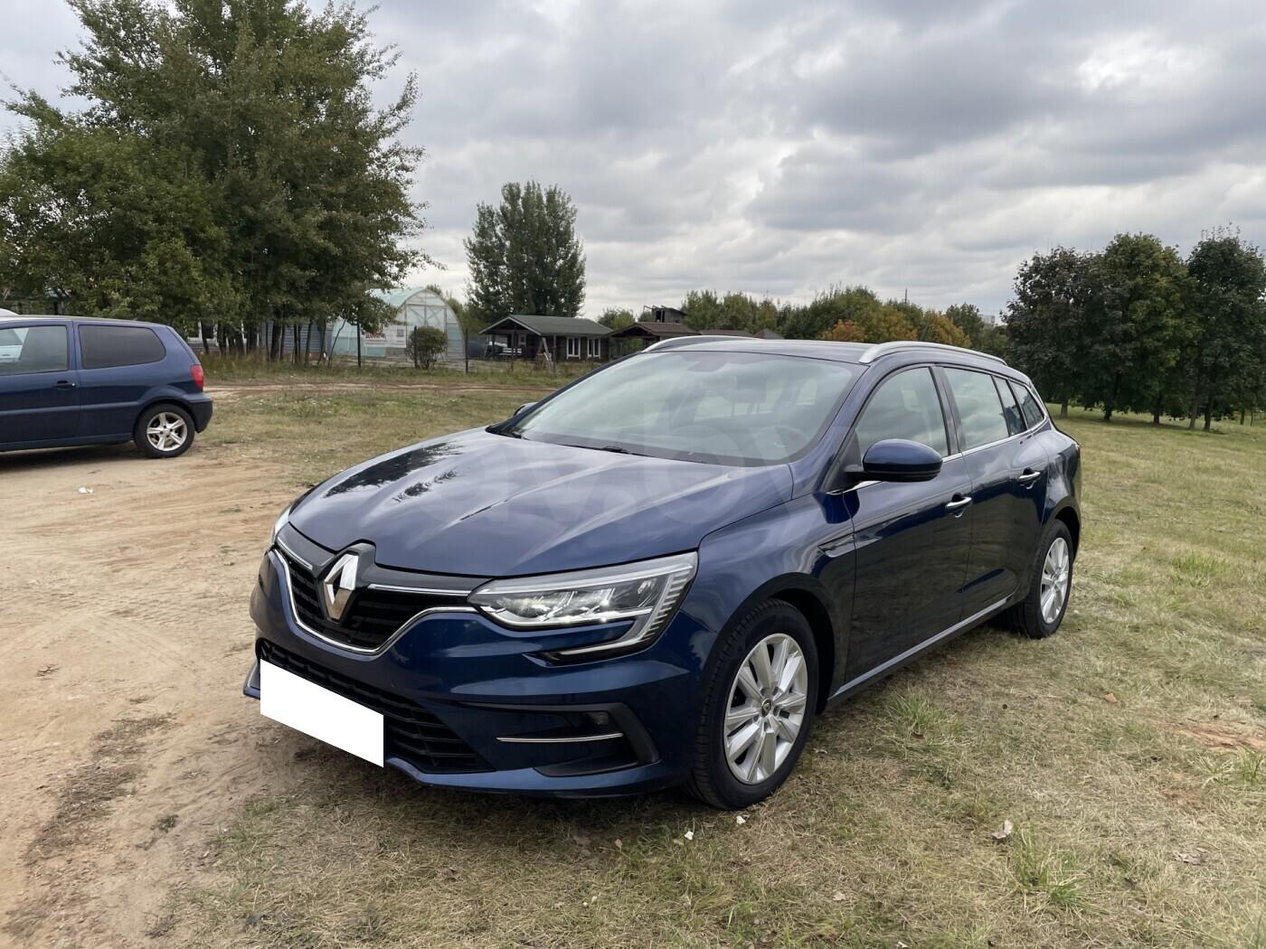Megane_2020: (245, 334, 1095, 803)
